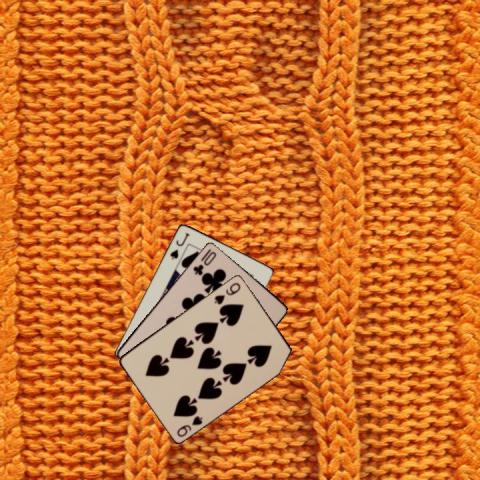10c: (190, 245, 217, 277)
9s: (211, 279, 242, 306), (174, 413, 204, 438)
Js: (166, 229, 191, 261)
